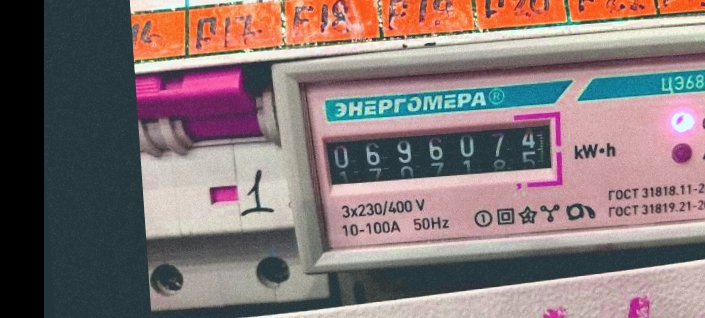0: (332, 142, 352, 168), (458, 131, 477, 158)
4: (520, 125, 537, 148)
5: (522, 148, 539, 169)
6: (426, 133, 446, 161), (364, 139, 383, 165)
7: (490, 129, 508, 157)
9: (395, 136, 413, 163)
screen: (312, 107, 570, 205)
